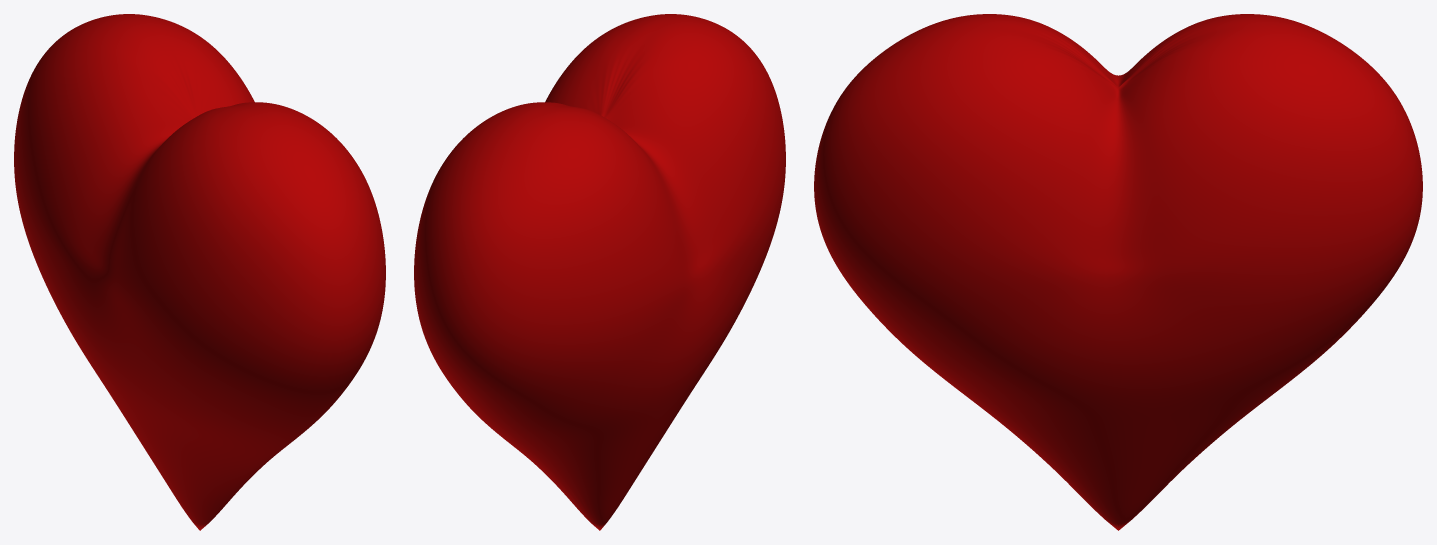
The model's file is Heart.fbx.
The picture shows the model from 3 angles, left to right: view 1: azimuth 30°, elevation 25°; view 2: azimuth 150°, elevation 25°; view 3: azimuth 270°, elevation 25°; orthographic projection. The views are drawn at different scales.
Visible parts, largest first — view 1: Heart; view 2: Heart; view 3: Heart.
Boxes of the visible parts, x1,y1,x2,y2 form: Heart: (14, 14, 385, 530); Heart: (414, 14, 785, 530); Heart: (814, 14, 1422, 530).
Bounding box in the file's own units: 230 × 467 × 511.
